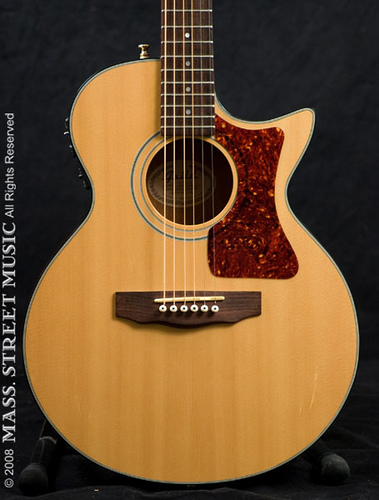guitar: (19, 1, 362, 487)
